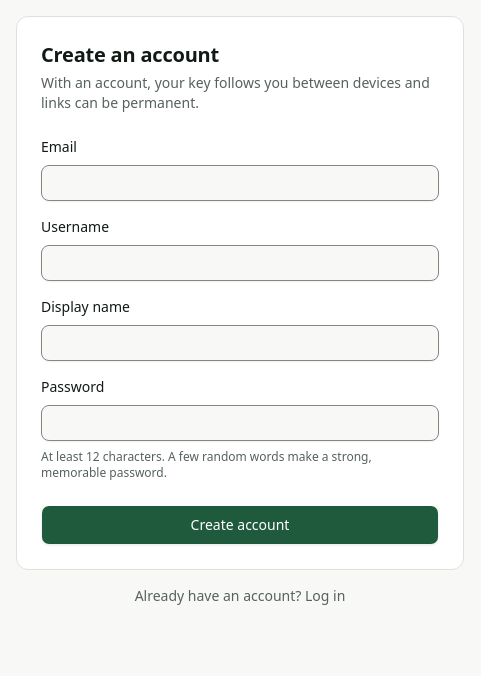
Test case: RegisterPage › shows a registration-disabled message on a 403
The width and height of the screenshot is (481, 676).
In the field labelled "Email": [240, 183] box [41, 165, 439, 201], type "h@example.com"
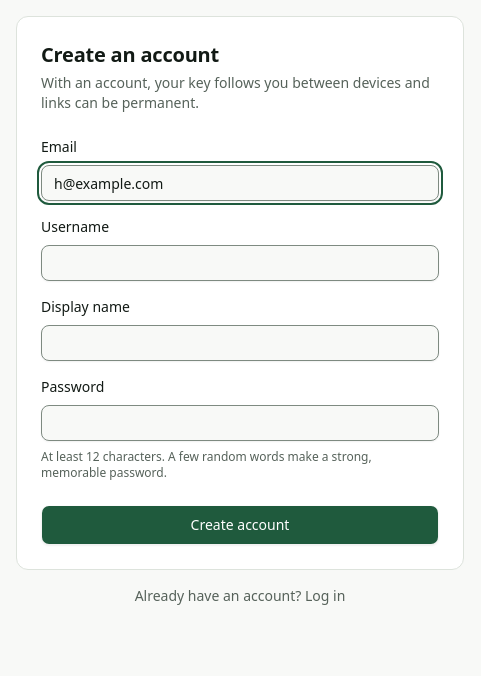
In the field labelled "Username": [240, 263] box [41, 245, 439, 281], type "hank"
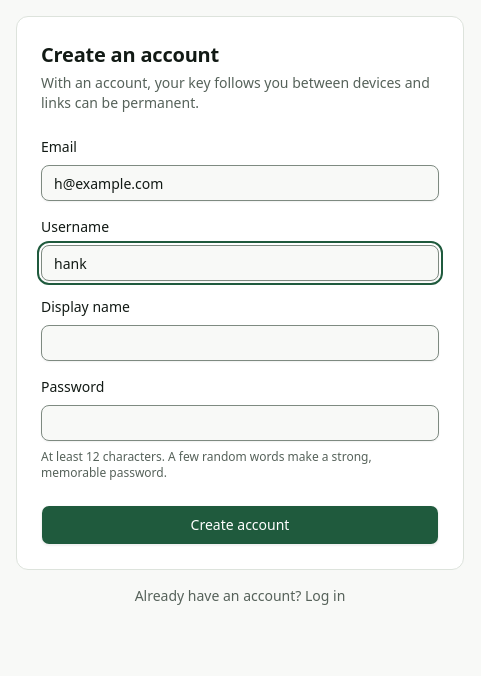
In the field labelled "Display name": [240, 343] box [41, 325, 439, 361], type "Hank"
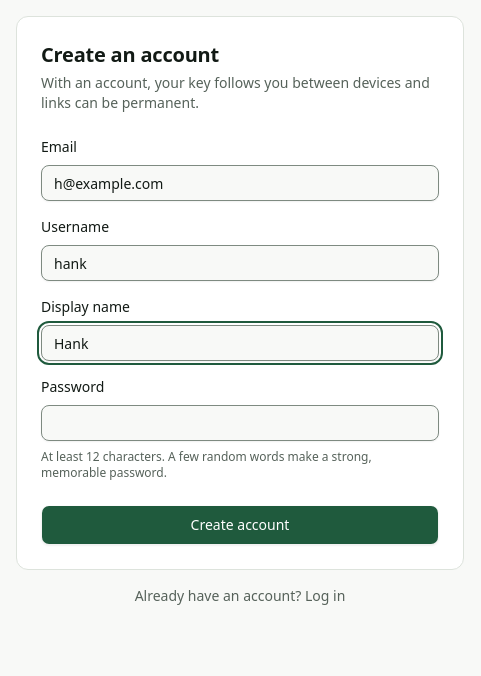
In the password field labelled "Password": [240, 423] box [41, 405, 439, 441], type "correct horse battery staple"
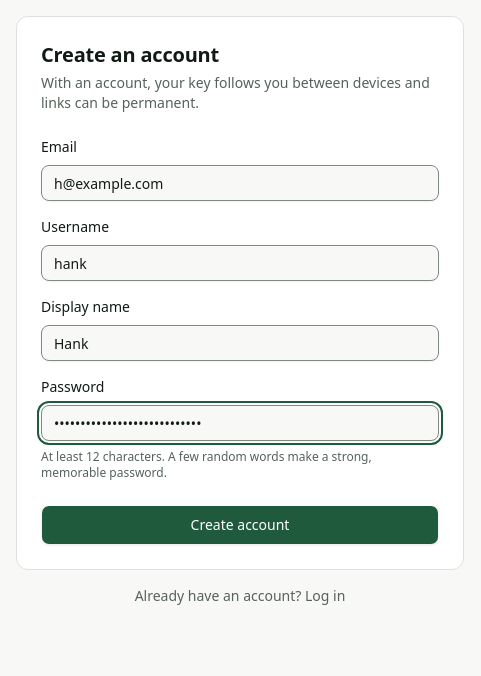
Click the button "Create account": [240, 525] box [41, 505, 439, 545]
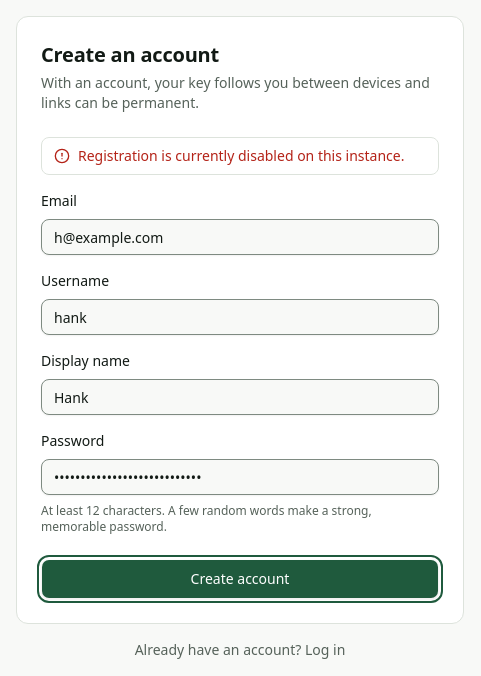
Result: the message shows "Registration is currently disabled" at [78, 146, 404, 165]
